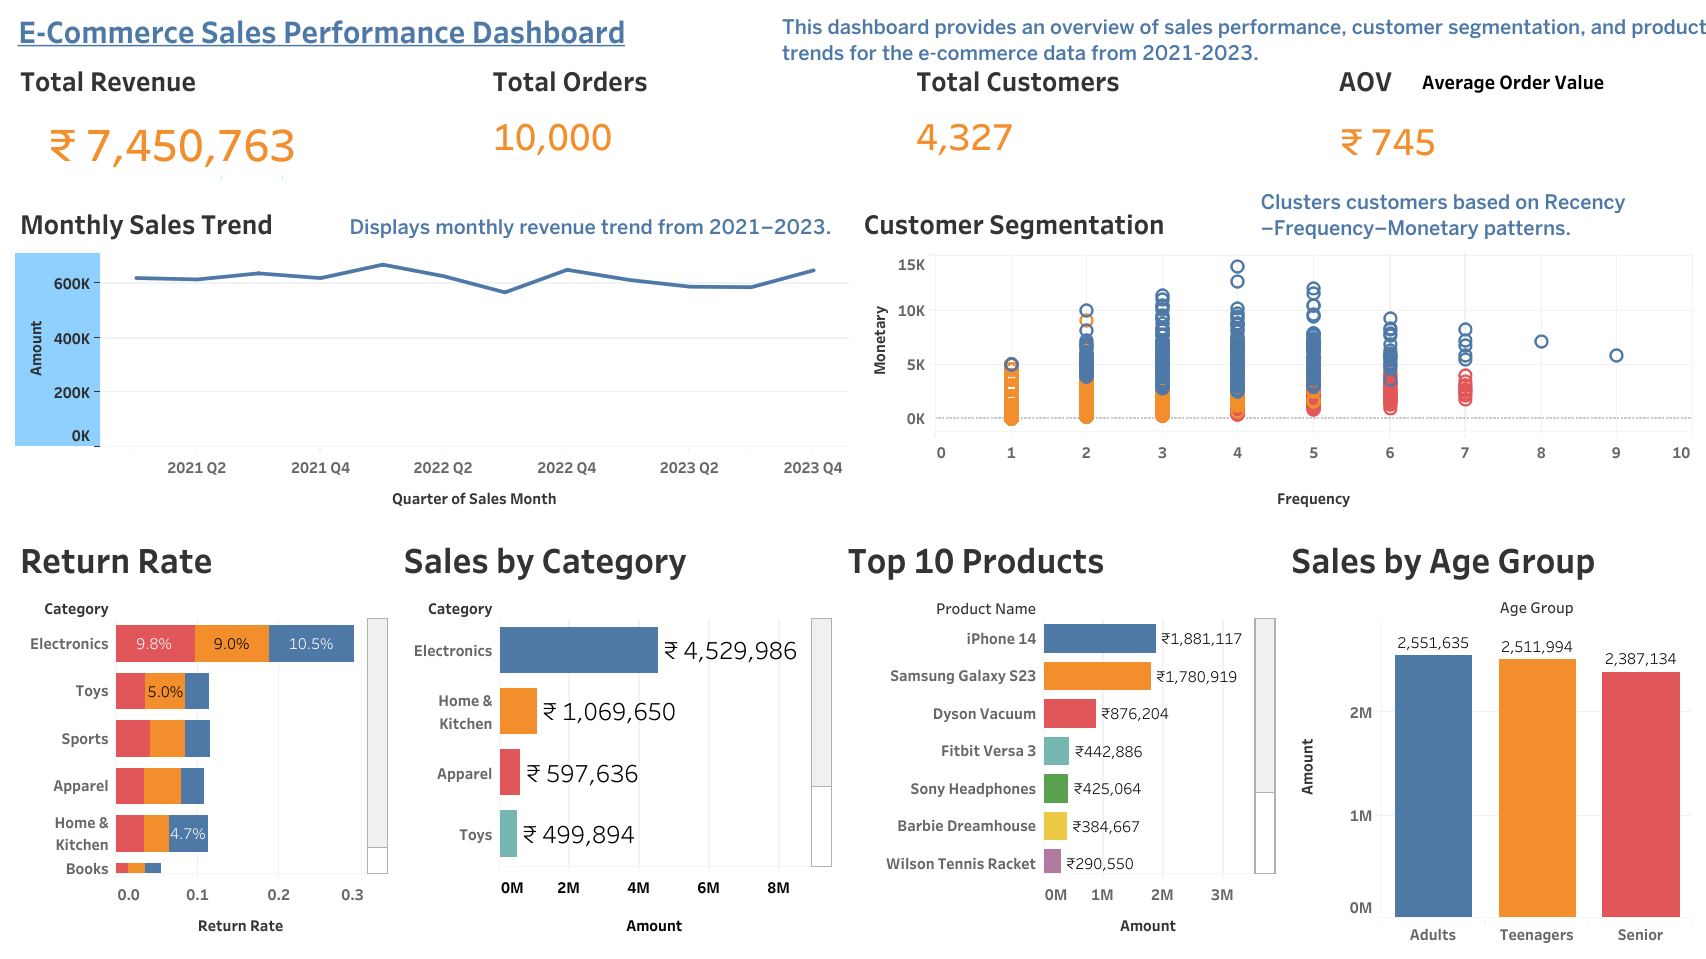

The page's visual inventory and layout, read from the dashboard file:
{"tool":"tableau","page":{"name":"E-Commerce Sales Performance Dashboard","canvas":[1366,768],"ordinal":0},"visuals":[{"type":"title","box":[8,8,1350,32]},{"type":"worksheet","title":"Total Revenue KPI","mark":"Automatic","box":[8,40,377.9,114]},{"type":"worksheet","title":"Total Order KPI","mark":"Automatic","box":[385.9,40,339,114]},{"type":"worksheet","title":"Total Customers KPI","mark":"Automatic","box":[724.9,40,338.1,114]},{"type":"worksheet","title":"Average Order Value","mark":"Automatic","box":[1063,40,294.9,109]},{"type":"text","box":[1134.8,48,211.2,31.7]},{"type":"text","box":[1006,147,355,49]},{"type":"worksheet","title":"Monthly Sales Trend","mark":"Automatic","rows":["amount"],"cols":["Calculation_550283584713068554"],"box":[8,154,675,264]},{"type":"worksheet","title":"Customer Segmentation","mark":"Automatic","rows":["Calculation_739153295366316034"],"cols":["Calculation_739153295366238209"],"box":[683,154,675,264]},{"type":"text","box":[277,155,454,53]},{"type":"worksheet","title":"Return Rate","mark":"Bar","rows":["category"],"cols":["Calculation_550283584712572934"],"box":[8,418,307,342]},{"type":"worksheet","title":"Sales by Category","mark":"Automatic","rows":["category"],"cols":["amount"],"box":[315,418,355.4,342]},{"type":"worksheet","title":"Top 10 Products","mark":"Automatic","rows":["product_name"],"cols":["amount"],"box":[670.4,418,354.3,342]},{"type":"worksheet","title":"Sales by Age Group","mark":"Automatic","rows":["amount"],"cols":["age_group"],"box":[1024.7,418,333.3,342]}]}

Visuals, with their boxes in screenshot pixels (x1, y1, x2, y2), scaled from the page's 1366x768 canvas onto the 1706x959 screenshot:
title: {"left": 10, "top": 10, "right": 1696, "bottom": 50}
"Total Revenue KPI" worksheet: {"left": 10, "top": 50, "right": 482, "bottom": 192}
"Total Order KPI" worksheet: {"left": 482, "top": 50, "right": 905, "bottom": 192}
"Total Customers KPI" worksheet: {"left": 905, "top": 50, "right": 1328, "bottom": 192}
"Average Order Value" worksheet: {"left": 1328, "top": 50, "right": 1696, "bottom": 186}
text: {"left": 1417, "top": 60, "right": 1681, "bottom": 100}
text: {"left": 1256, "top": 184, "right": 1700, "bottom": 245}
"Monthly Sales Trend" worksheet: {"left": 10, "top": 192, "right": 853, "bottom": 522}
"Customer Segmentation" worksheet: {"left": 853, "top": 192, "right": 1696, "bottom": 522}
text: {"left": 346, "top": 194, "right": 913, "bottom": 260}
"Return Rate" worksheet (Bar marks): {"left": 10, "top": 522, "right": 393, "bottom": 949}
"Sales by Category" worksheet: {"left": 393, "top": 522, "right": 837, "bottom": 949}
"Top 10 Products" worksheet: {"left": 837, "top": 522, "right": 1280, "bottom": 949}
"Sales by Age Group" worksheet: {"left": 1280, "top": 522, "right": 1696, "bottom": 949}
